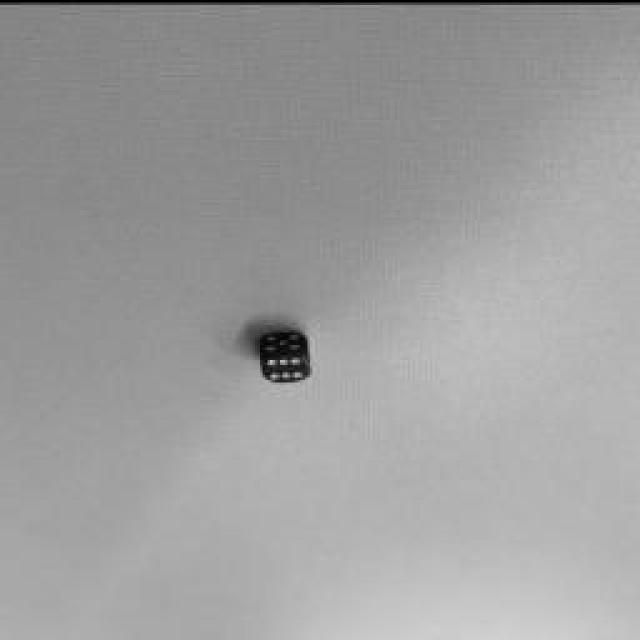dice_6: (260, 350, 312, 380)
